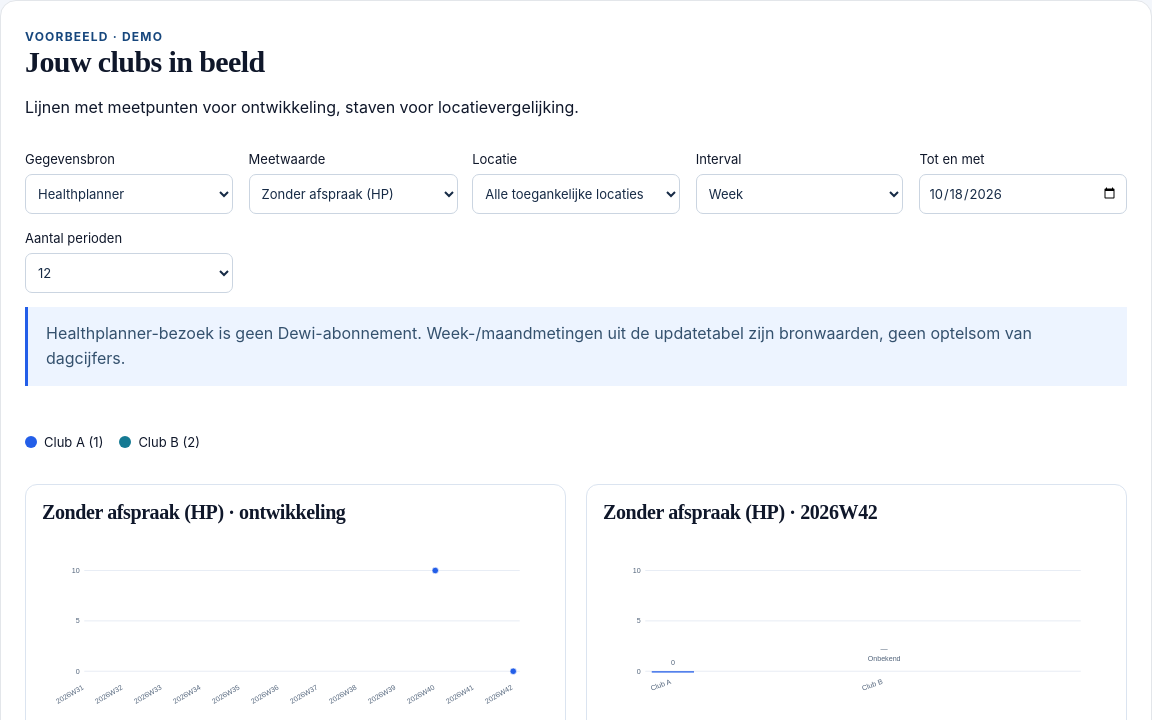
Test case: toont toegankelijke lijnen, staven, focuswaarden en filters zonder meetgaten te overbruggen
The image size is (1152, 720).
Expected: the icon named "Lijngrafiek met meetpunten" is shown, [42,538,549,713]
Expected: the icon named "Staafdiagram per locatie" is shown, [603,538,1110,713]
Select "Club A" in the dropdown labelled "Locatie" at point(576, 194), box [472,174,680,214]
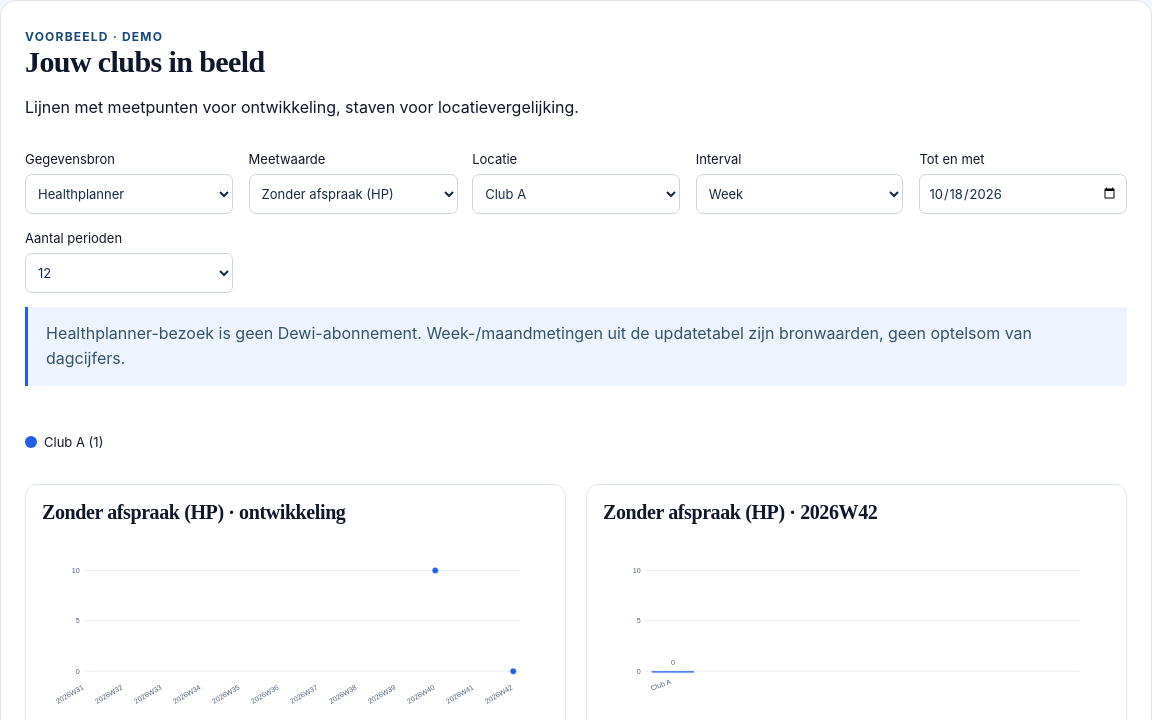
Now the text "Club B (2)" is gone
